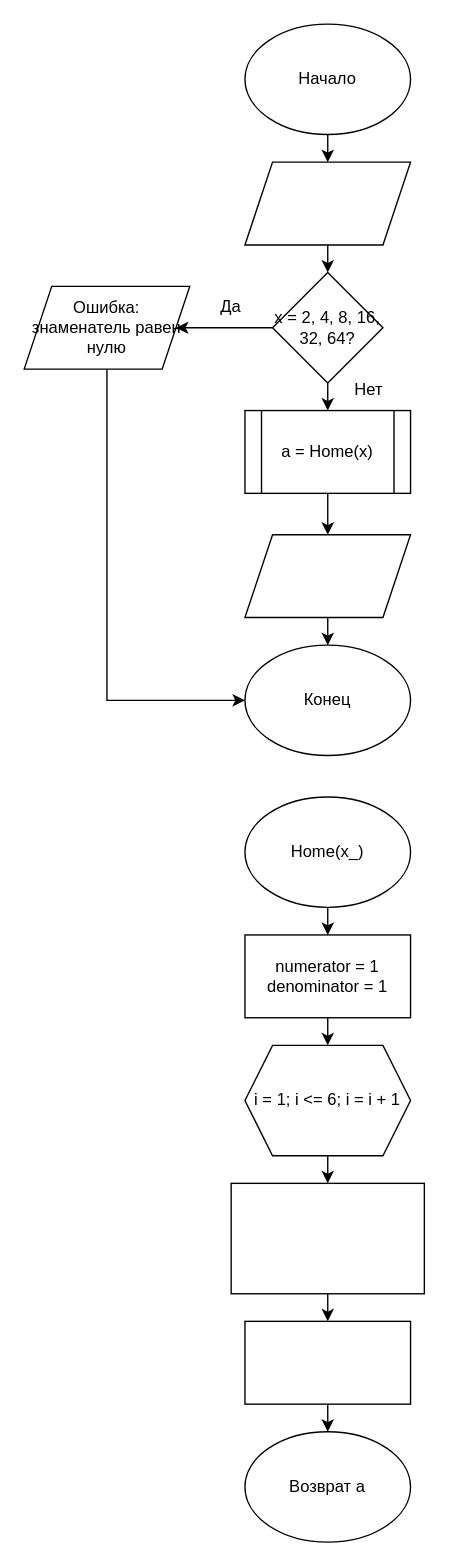
This 449x1566 diagram has some shape labels left out. Here are the shapes that lost their labels. From the top down, the centre of each, then its label:
pixel 327 203: Ввод Х
pixel 327 575: Вывод х, а
pixel 327 1238: numerator = numerator * (x_ - (2^i - 1)) denominator = denominator * (x_ - 2^i)
pixel 327 1362: a = numerator / denominator
